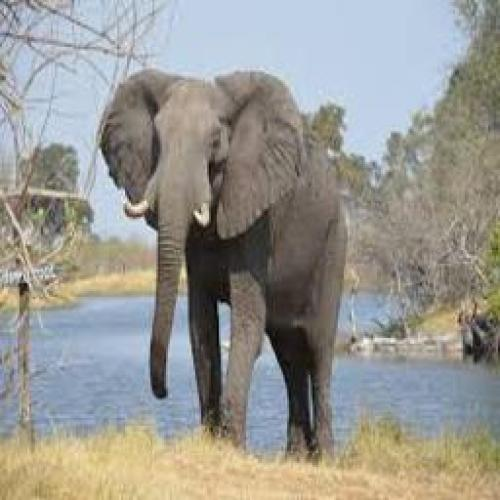african_elephant-endangered: (100, 67, 347, 465)
